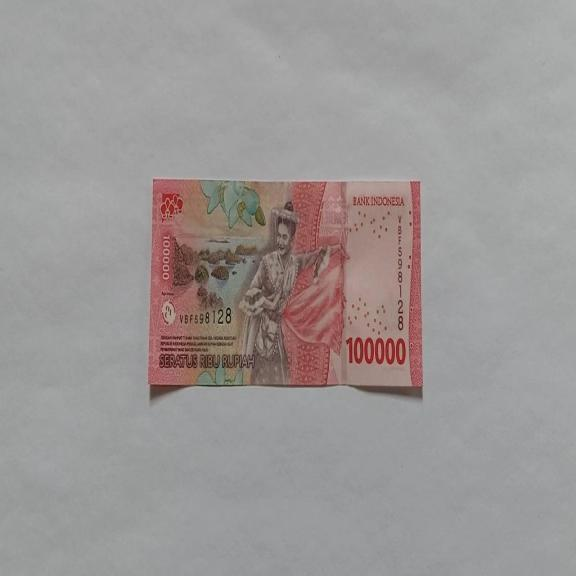Kertas: (148, 177, 422, 394), (345, 333, 406, 366)
